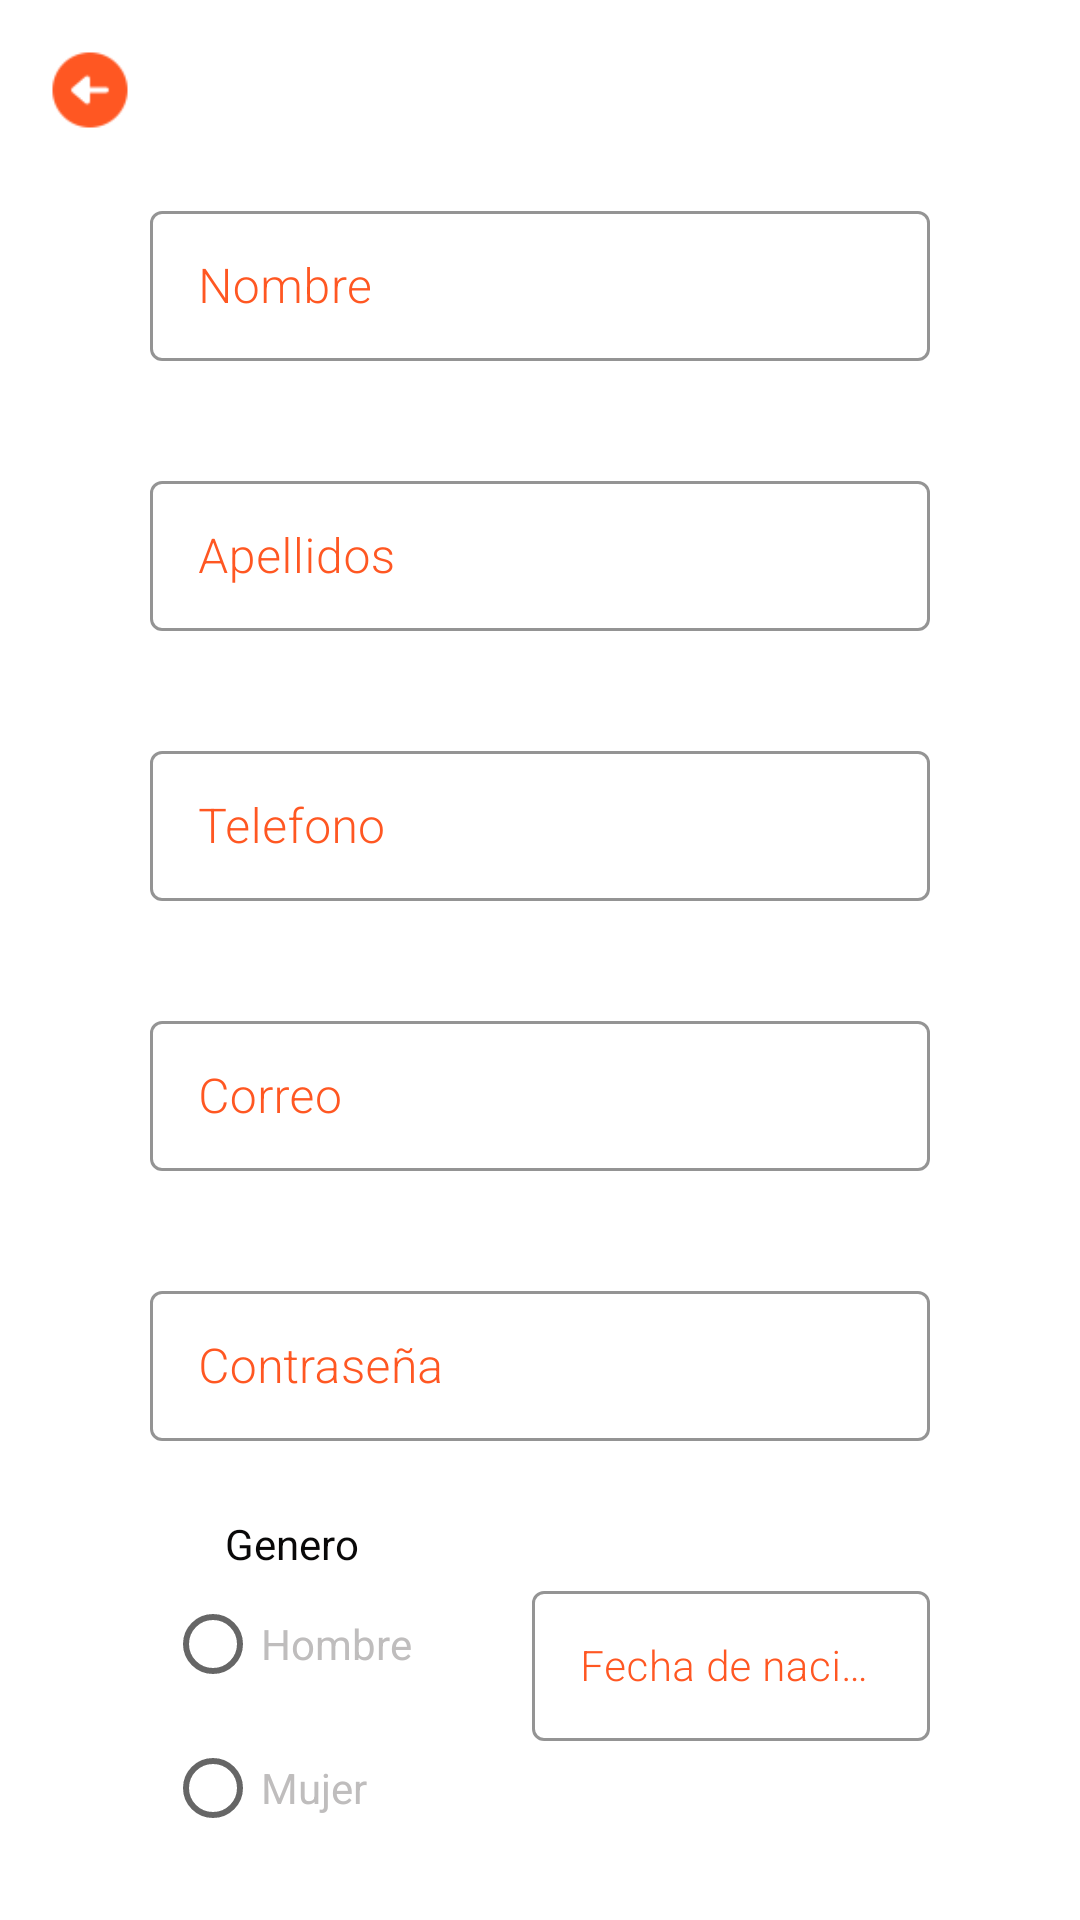

Screen size 1080×1920. Icon name, then its box in pixels as [left=x1, top=y1, right=x2, bottom=y2]:
iconback: [left=52, top=52, right=128, bottom=128]
